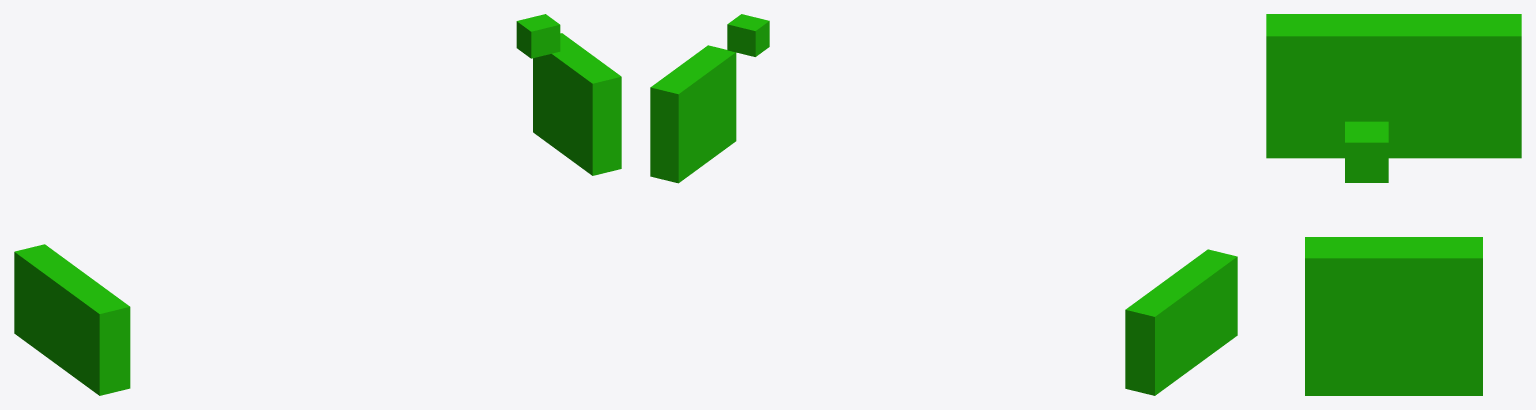
Rendered from tem18_gizmo.fbx.
3 views of the same model, side by side, from view 1: azimuth 30°, elevation 25°; view 2: azimuth 150°, elevation 25°; view 3: azimuth 270°, elevation 25° (orthographic). The views are drawn at different scales.
Visible parts, largest first — view 1: sel001giz, sel002giz_, sel003giz; view 2: sel001giz, sel002giz_, sel003giz; view 3: sel001giz, sel002giz_, sel003giz.
Part boxes in pixels (bbox=[...]): sel001giz: bbox=[14, 244, 130, 395]; sel002giz_: bbox=[533, 33, 621, 175]; sel003giz: bbox=[516, 14, 560, 58]; sel001giz: bbox=[1125, 249, 1237, 395]; sel002giz_: bbox=[650, 45, 736, 183]; sel003giz: bbox=[727, 14, 769, 56]; sel001giz: bbox=[1266, 14, 1521, 158]; sel002giz_: bbox=[1305, 237, 1482, 395]; sel003giz: bbox=[1345, 121, 1388, 182].
Bounding box in the file's own units: 925 × 385 × 256.
